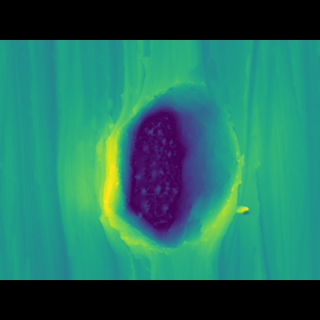Loch: (84, 88, 245, 240)
